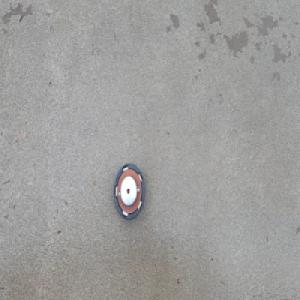FuelCap: (112, 161, 145, 222)
